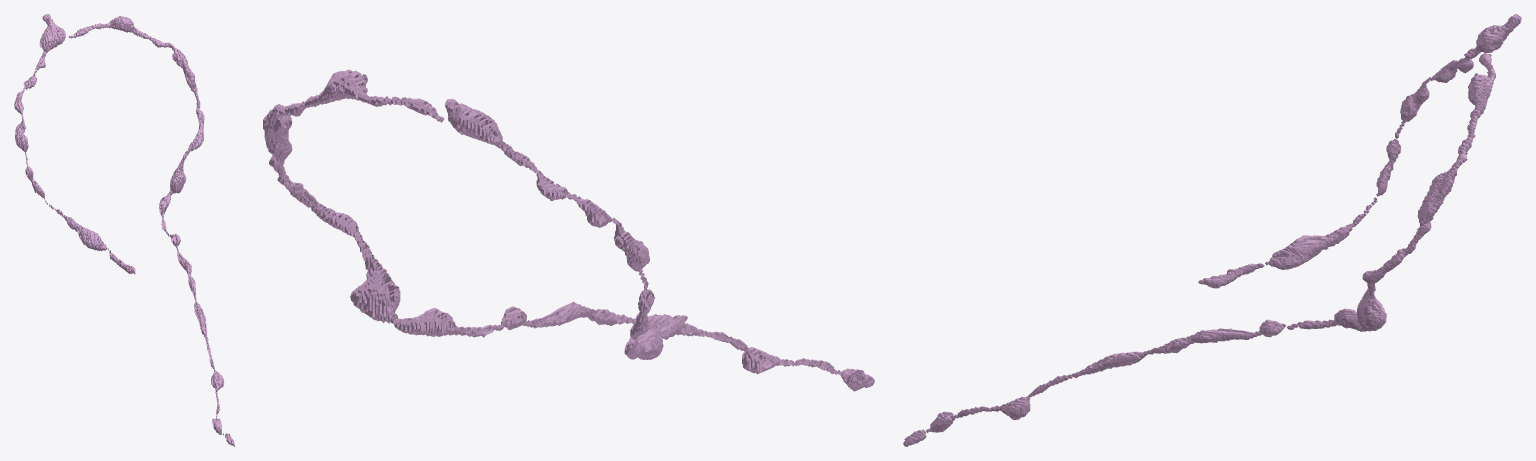
File: SVV_RICR.gltf
3 views of the same model, side by side, from view 1: azimuth 30°, elevation 25°; view 2: azimuth 150°, elevation 25°; view 3: azimuth 270°, elevation 25° (orthographic). The views are drawn at different scales.
Visible parts, largest first — view 1: RICR; view 2: RICR; view 3: RICR.
Part boxes in pixels (x1,y1,x2,y2): RICR: (14, 14, 234, 446); RICR: (263, 69, 874, 391); RICR: (903, 14, 1521, 446).
Size of the model in its own units: 106408 by 157646 by 201311.
